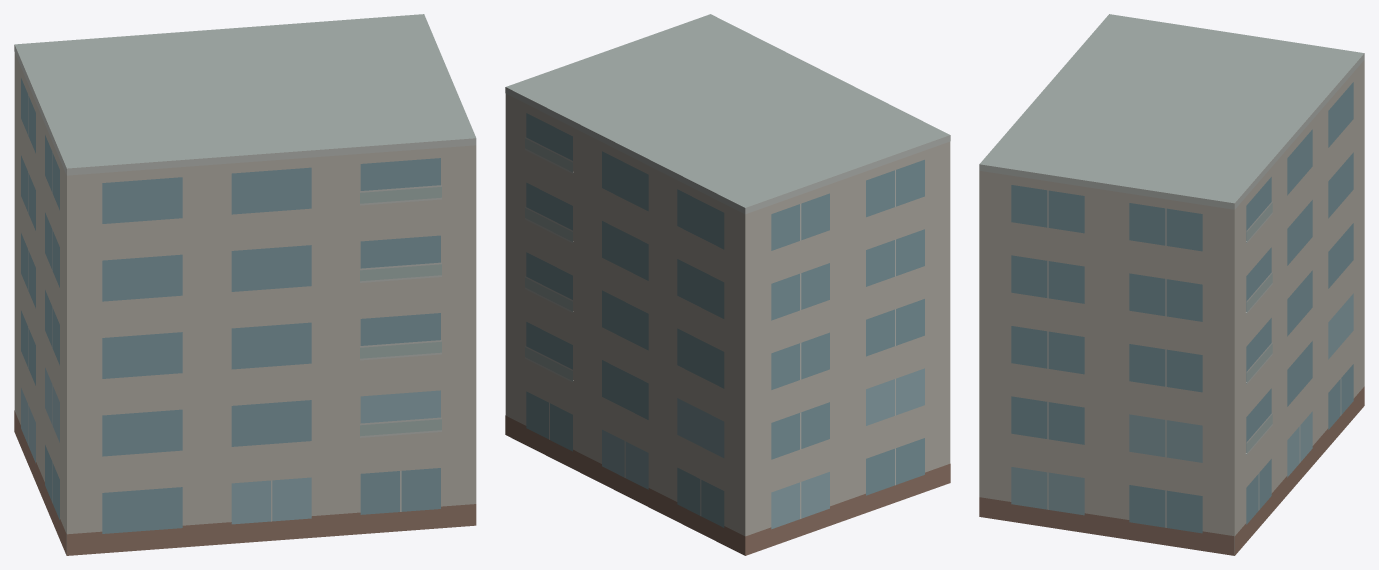
Rendered from survey-upis-33007395.glb.
The picture shows the model from 3 angles, left to right: view 1: azimuth 30°, elevation 25°; view 2: azimuth 150°, elevation 25°; view 3: azimuth 270°, elevation 25°; orthographic projection. The views are drawn at different scales.
Parts seen in each view (by area): view 1: survey-upis-33007395.tmp; view 2: survey-upis-33007395.tmp; view 3: survey-upis-33007395.tmp.
Part boxes in pixels (bbox=[...]): survey-upis-33007395.tmp: bbox=[14, 14, 476, 555]; survey-upis-33007395.tmp: bbox=[505, 14, 950, 555]; survey-upis-33007395.tmp: bbox=[979, 14, 1364, 555].
Bounding box in the file's own units: 15.39 × 13.35 × 13.23.
